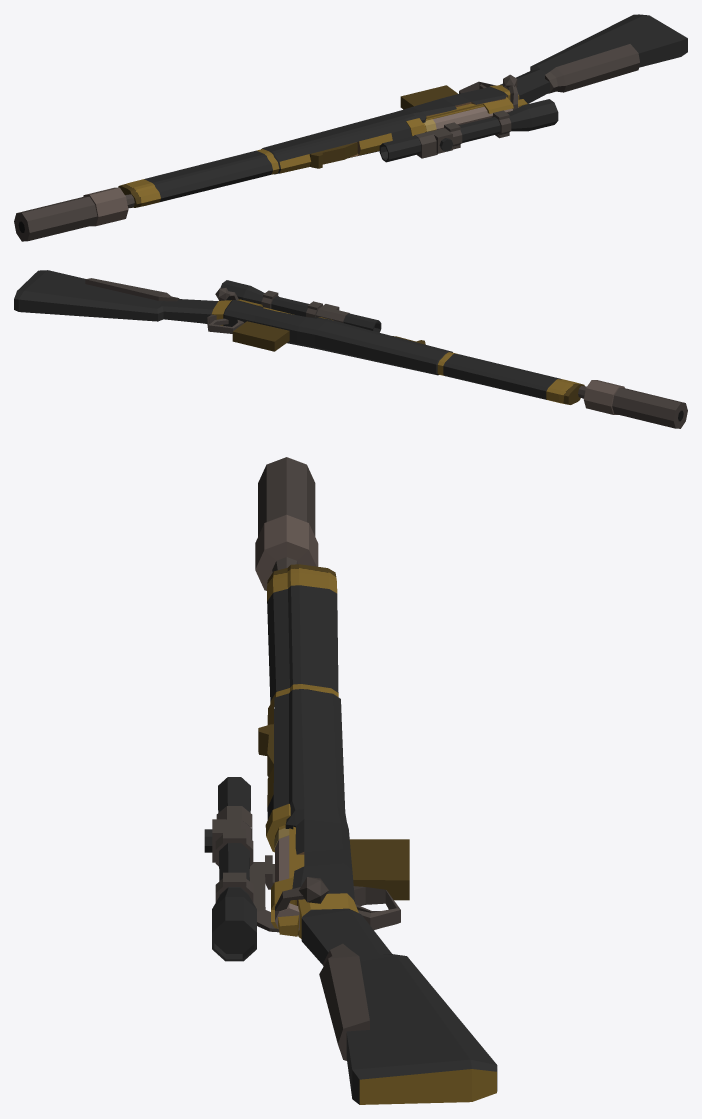
File: LeeEnfieldBlack_3D.glb
3 renders of one model, top to bottom at view 1: azimuth 30°, elevation 25°; view 2: azimuth 150°, elevation 25°; view 3: azimuth 270°, elevation 25°, orthographic. The views are drawn at different scales.
Visible parts, largest first — view 1: EnfieldSLowPoly; view 2: EnfieldSLowPoly; view 3: EnfieldSLowPoly.
Part boxes in pixels (x1,y1,x2,y2): EnfieldSLowPoly: (14,14,687,241); EnfieldSLowPoly: (14,270,687,428); EnfieldSLowPoly: (204,457,497,1104).
Size of the model in its own units: 1.19 by 0.0663 by 0.241.
1 material, 1 textured.
